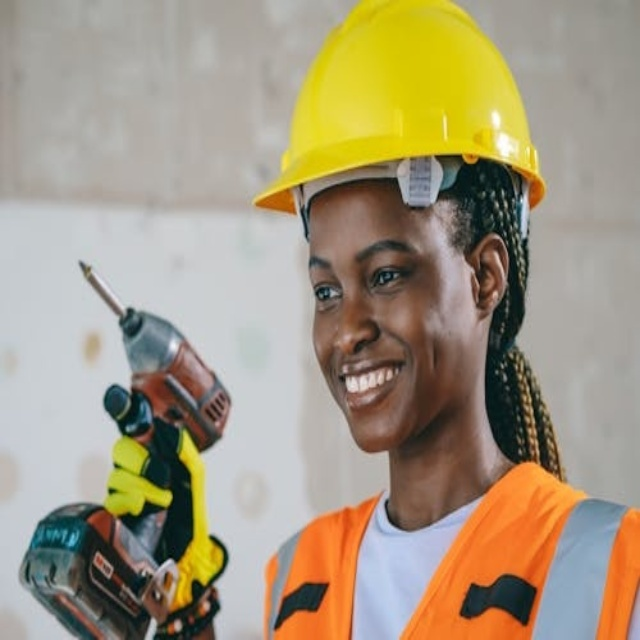Guantes: (104, 418, 225, 614)
Sin_gafas: (307, 227, 422, 314)
Sin_mascara: (332, 357, 413, 433)
